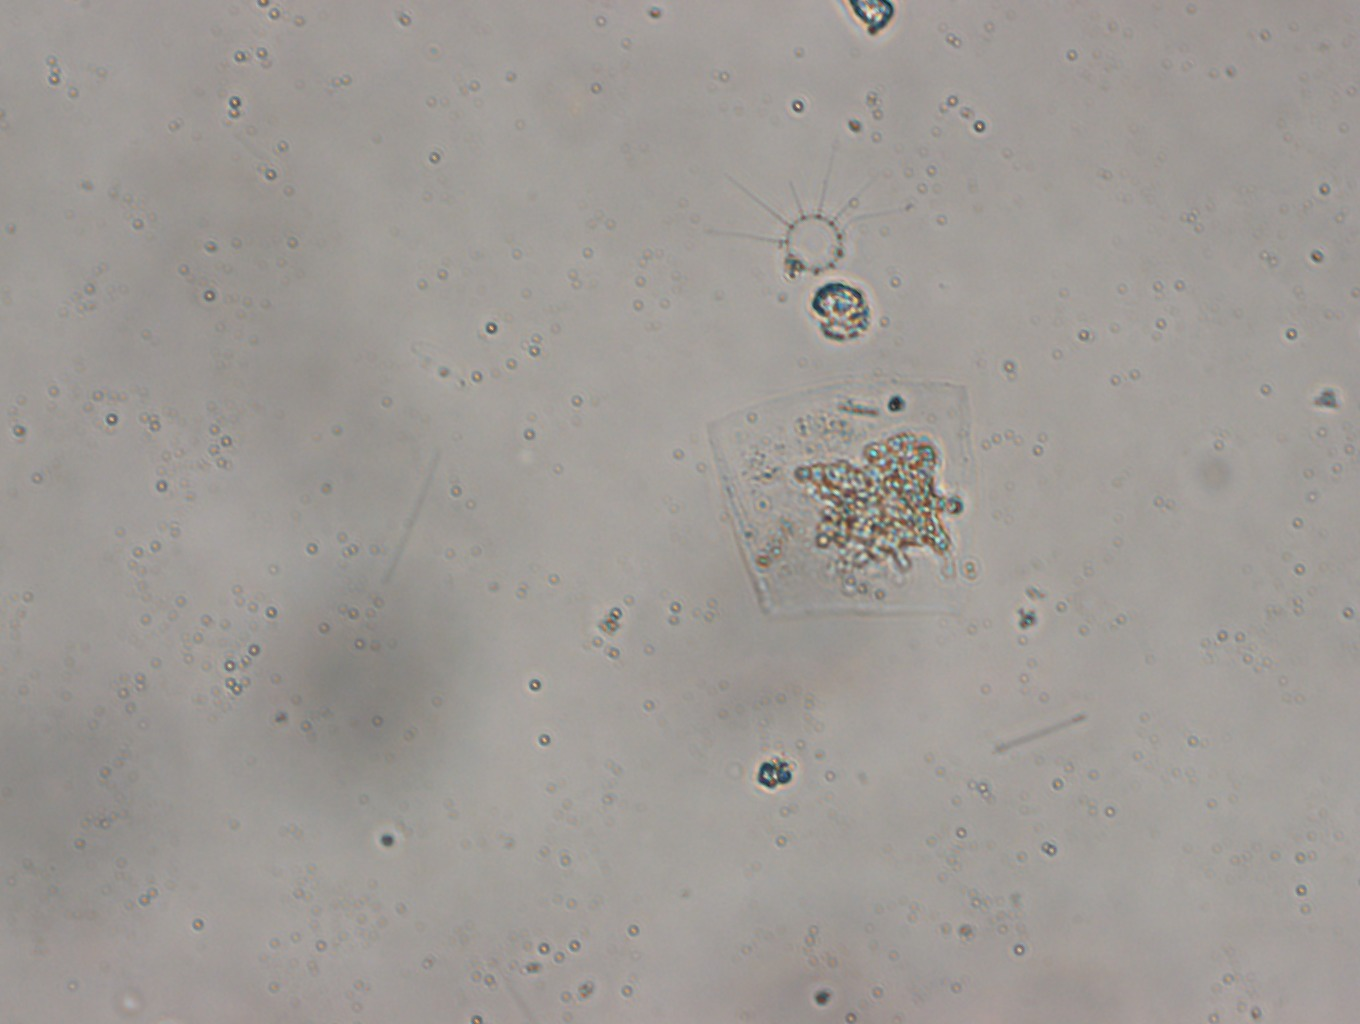bacteriastrum: (701, 161, 922, 281)
helicotheca: (700, 376, 975, 623)
